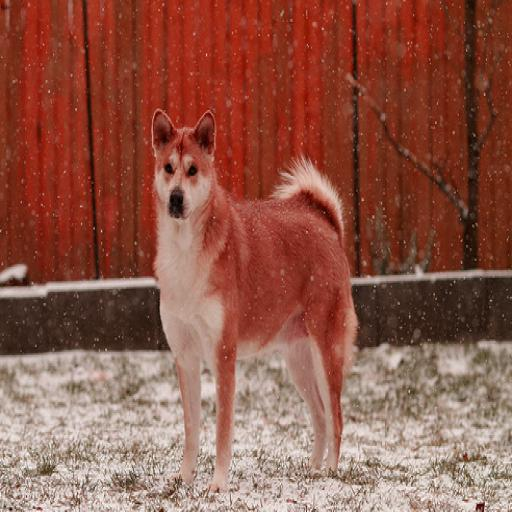dog_face: (147, 111, 216, 219)
